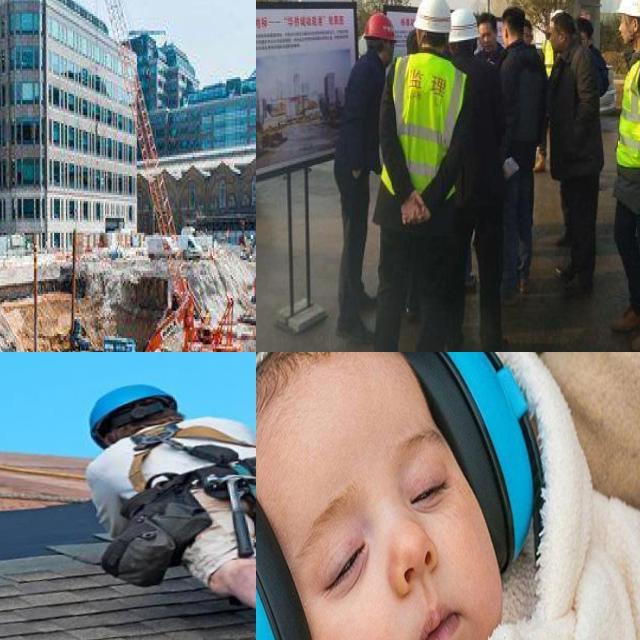Ear-protection: (394, 352, 562, 579)
Harness: (122, 423, 256, 564)
No_Glasses: (274, 426, 466, 599)
head_helmet: (438, 0, 482, 45), (403, 0, 453, 34), (363, 0, 395, 44), (614, 0, 640, 27)
head_nohelmet: (506, 5, 527, 44), (480, 8, 498, 32)
person: (377, 0, 489, 352), (487, 3, 556, 309), (581, 0, 640, 352), (542, 13, 608, 300), (332, 16, 391, 336)
vest: (382, 47, 464, 207), (603, 46, 640, 181)
